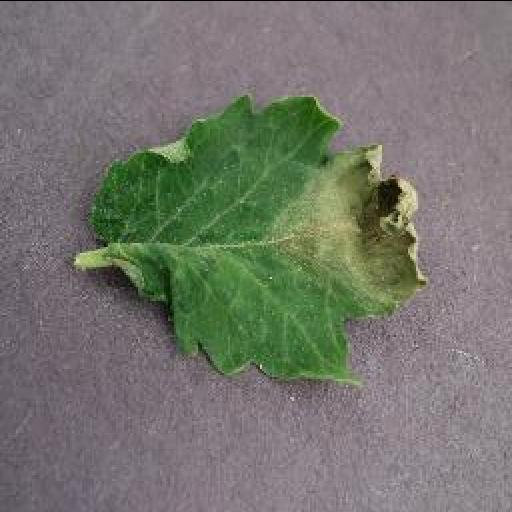disease_tomato: (89, 93, 431, 383)
